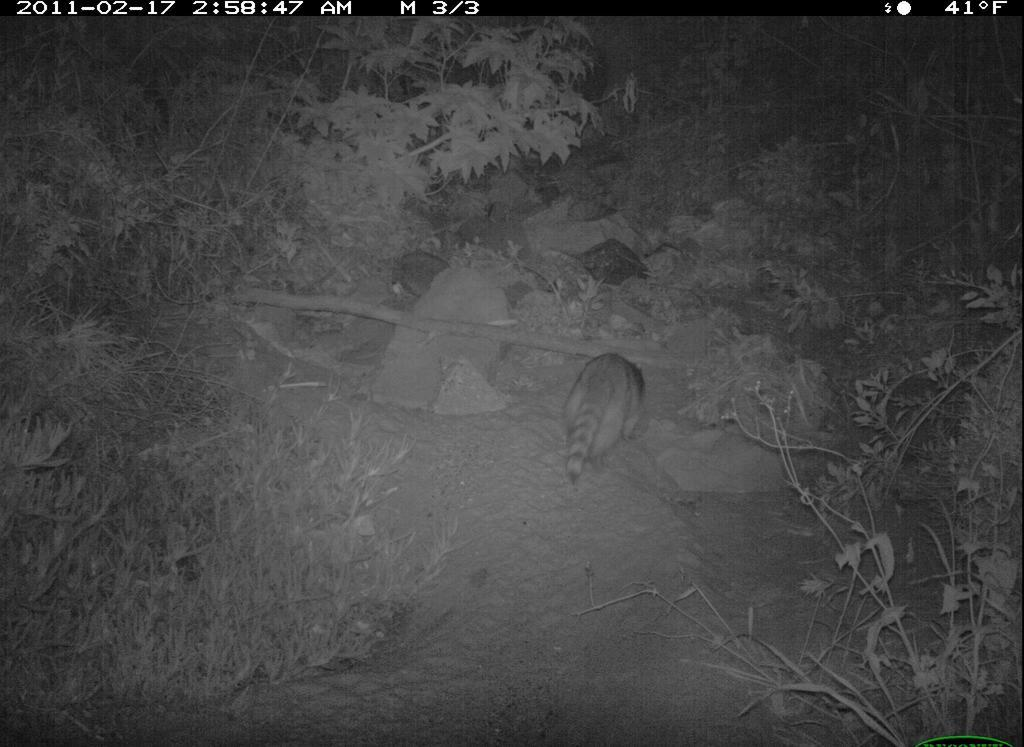raccoon: (541, 344, 664, 484)
